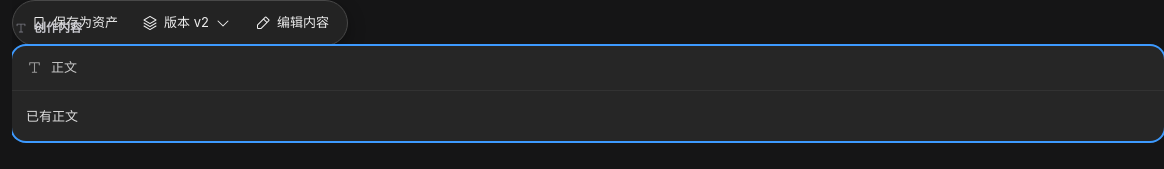
Test: ContentCanvasCard › exits clean text editing from the toolbar
The width and height of the screenshot is (1164, 169).
Click the button "编辑内容" at (292, 23), box [245, 7, 339, 39]
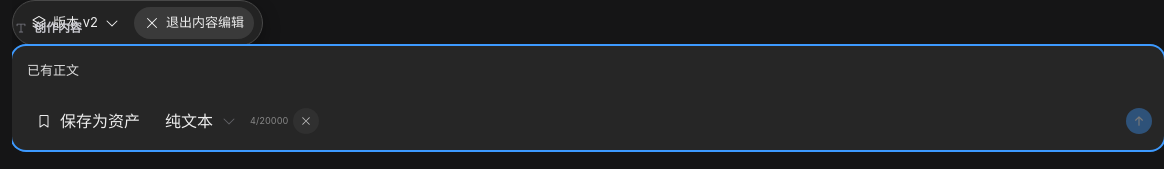
Click the button "退出内容编辑" at (194, 23), box [134, 7, 254, 39]
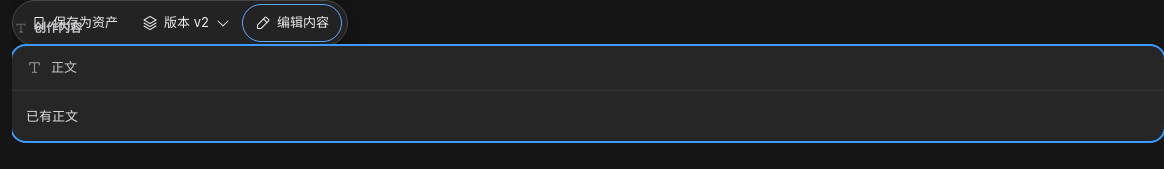
Expected: the element named "文字正文" reads "已有正文", [26, 108, 78, 124]
